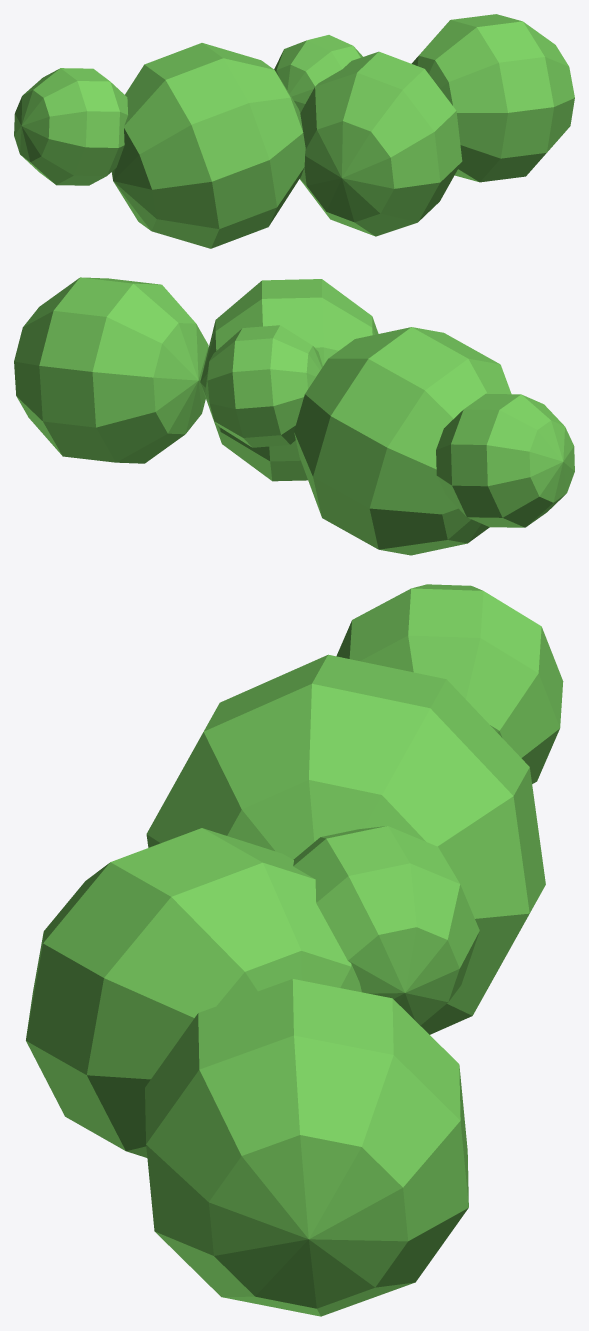
File: cay 2.fbx
3 renders of one model, top to bottom at view 1: azimuth 30°, elevation 25°; view 2: azimuth 150°, elevation 25°; view 3: azimuth 270°, elevation 25°, orthographic. The views are drawn at different scales.
Parts seen in each view (by area): view 1: Bushes_2_2; view 2: Bushes_2_2; view 3: Bushes_2_2.
Part boxes in pixels (x1=…): Bushes_2_2: x1=14, y1=14, x2=574, y2=248; Bushes_2_2: x1=14, y1=277, x2=574, y2=555; Bushes_2_2: x1=26, y1=584, x2=563, y2=1316.
Bounding box in the file's own units: 458 × 159 × 211.
